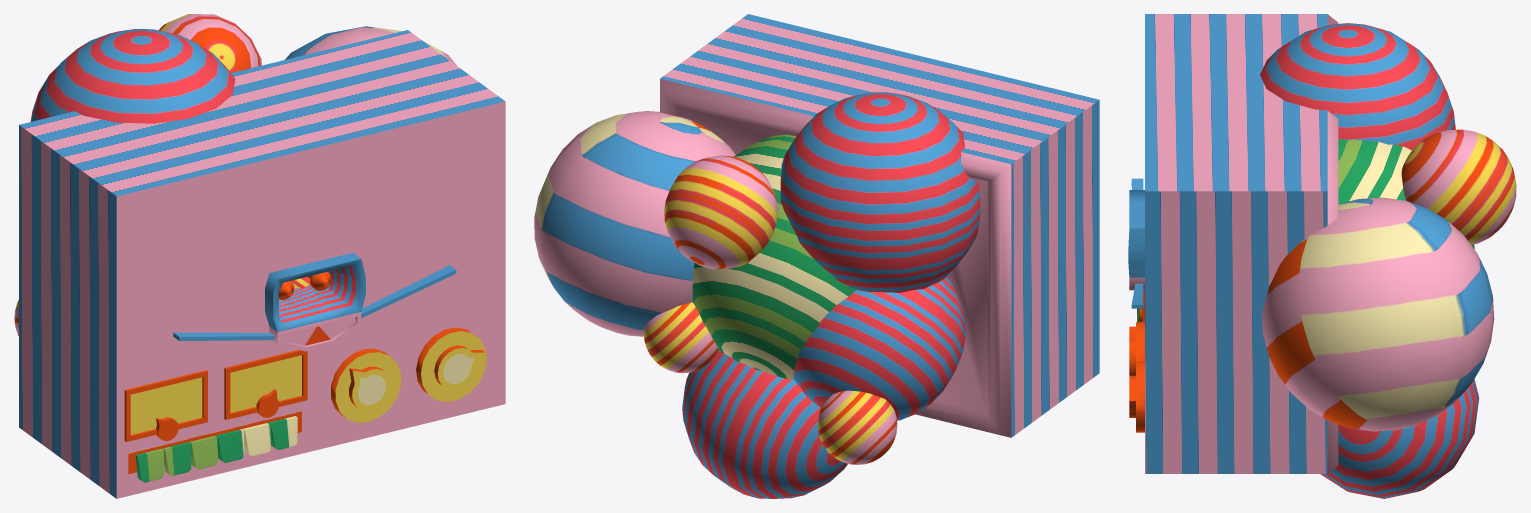
File: M_magnetophone.fbx
The picture shows the model from 3 angles, left to right: view 1: azimuth 30°, elevation 25°; view 2: azimuth 150°, elevation 25°; view 3: azimuth 270°, elevation 25°; orthographic projection. The views are drawn at different scales.
Visible parts, largest first — view 1: Cylinder.003; view 2: Cylinder.003; view 3: Cylinder.003.
Boxes of the visible parts, x1,y1,x2,y2 form: Cylinder.003: [14, 14, 505, 498]; Cylinder.003: [534, 14, 1099, 498]; Cylinder.003: [1128, 14, 1516, 498].
Size of the model in its own units: 156 by 136 by 116.
